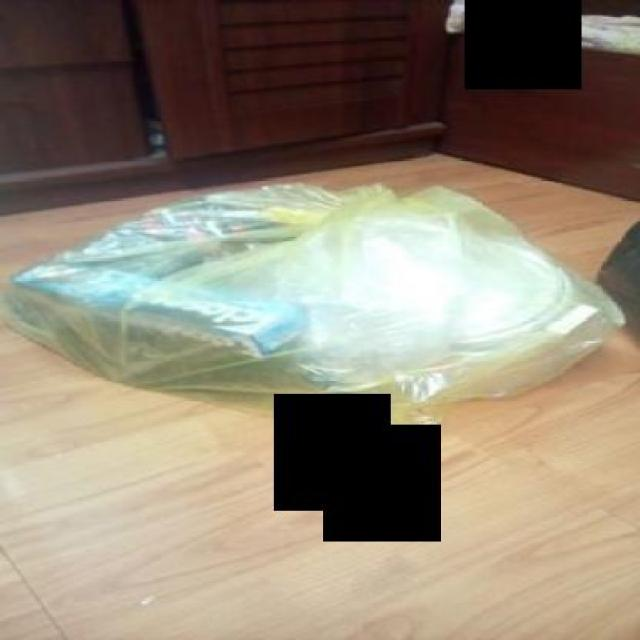plastic bag: (1, 178, 628, 424)
